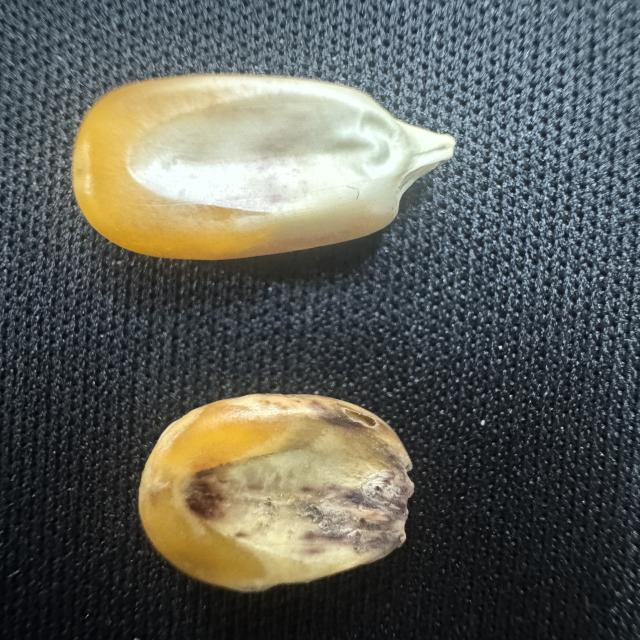Bad-Seed: (123, 384, 423, 606)
Good-Seed: (64, 65, 467, 266)
